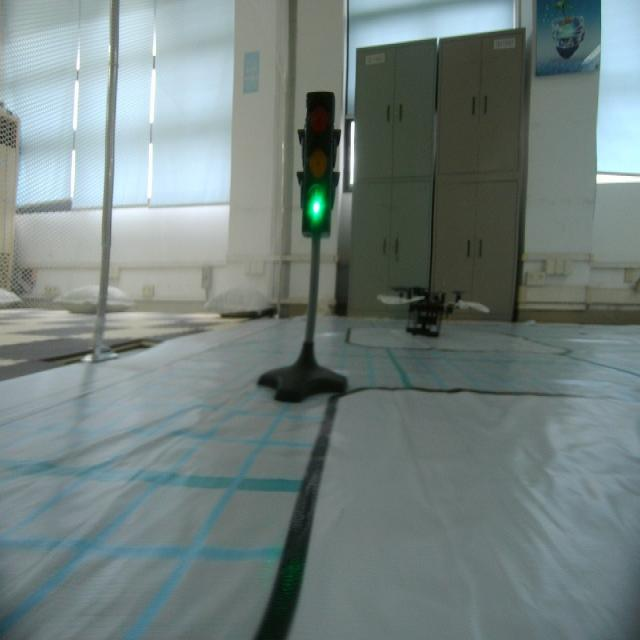green: (294, 87, 344, 247)
